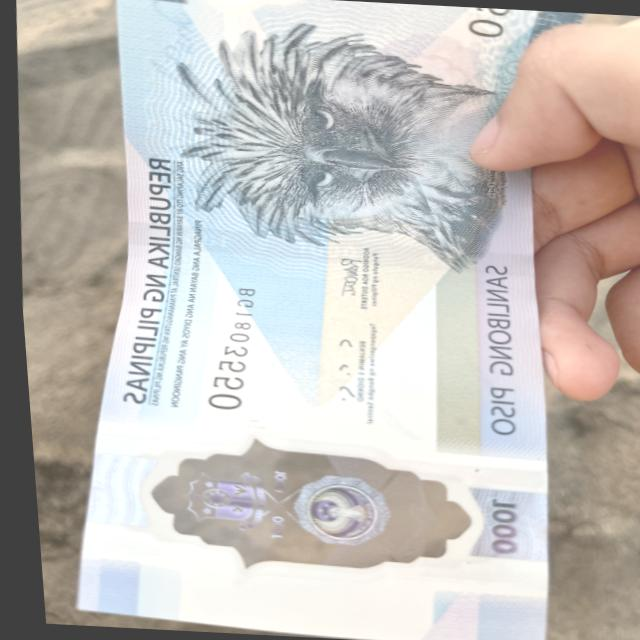clear_window: (59, 412, 555, 604)
eagle: (171, 20, 524, 253)
